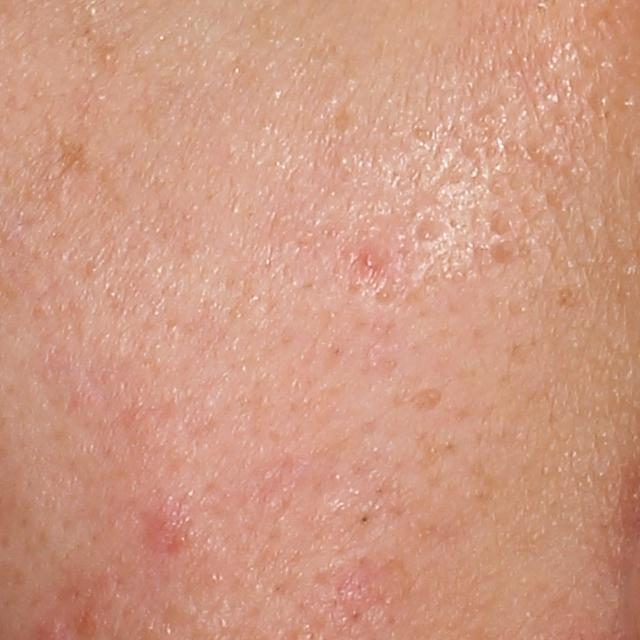atrophic_scar: (405, 386, 446, 418), (409, 216, 449, 243)
melasma: (55, 128, 93, 184)
papule: (139, 501, 195, 556)
